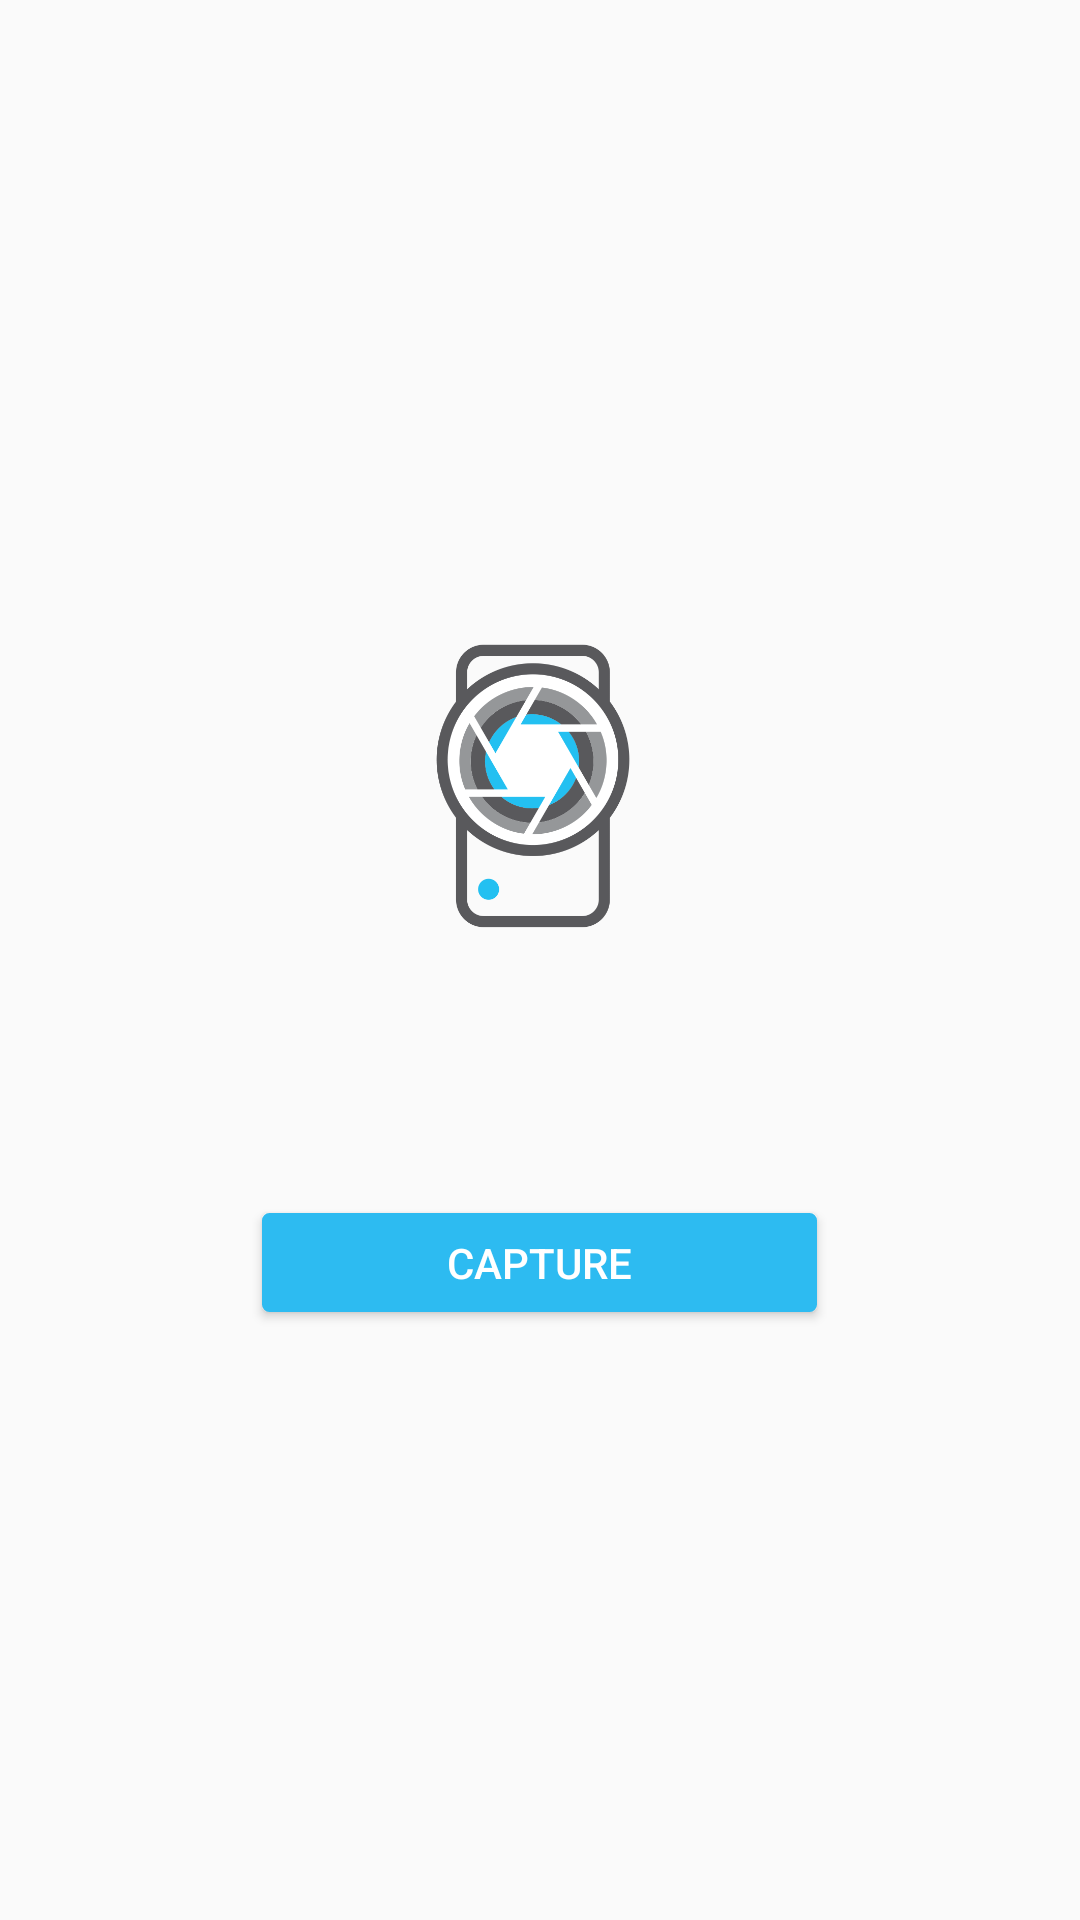

Where icons sit on this 1080 x 1920 app screen, as (left=x1, top=y1, right=x2, bottom=y2):
dashcam: (left=436, top=644, right=630, bottom=927)
